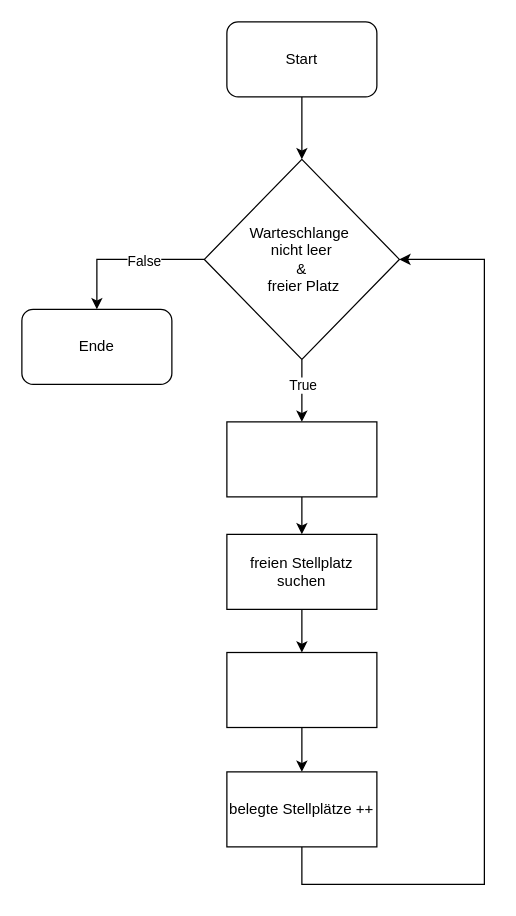
This 516x916 diagram has some shape labels left out. The shapes that lost their labels are listed below. From the top down, each one's centre as x and y in pixels, then its label:
At [301,459]: "Fahrzeug aus der Warteschlange holen".
At [301,689]: "Fahrzeug zuweisen".
